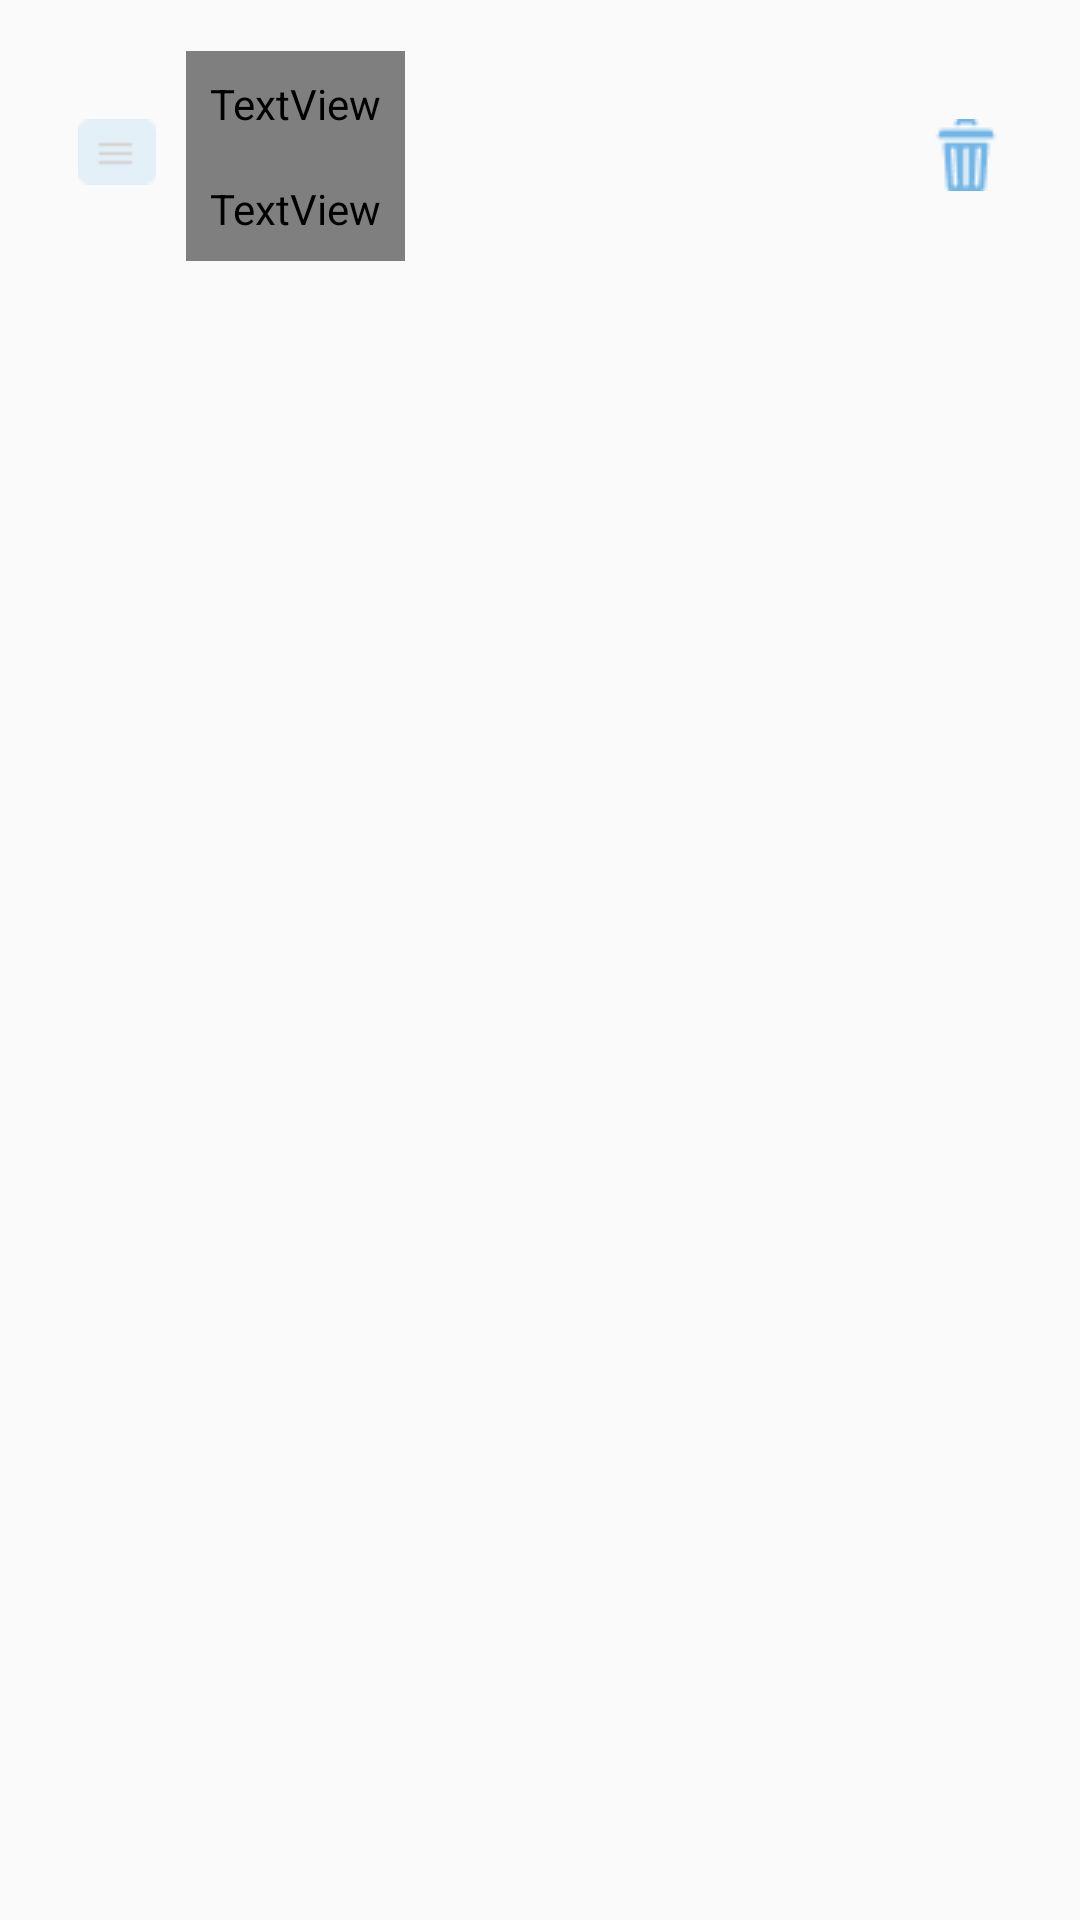

Screen size 1080px×1920px. Icon name, then its center in pixels as (x=x, y=y):
delete: (x=966, y=155)
